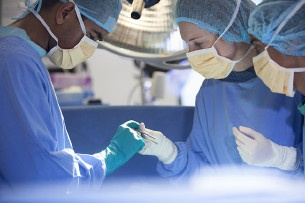Mask: (180, 32, 227, 79)
